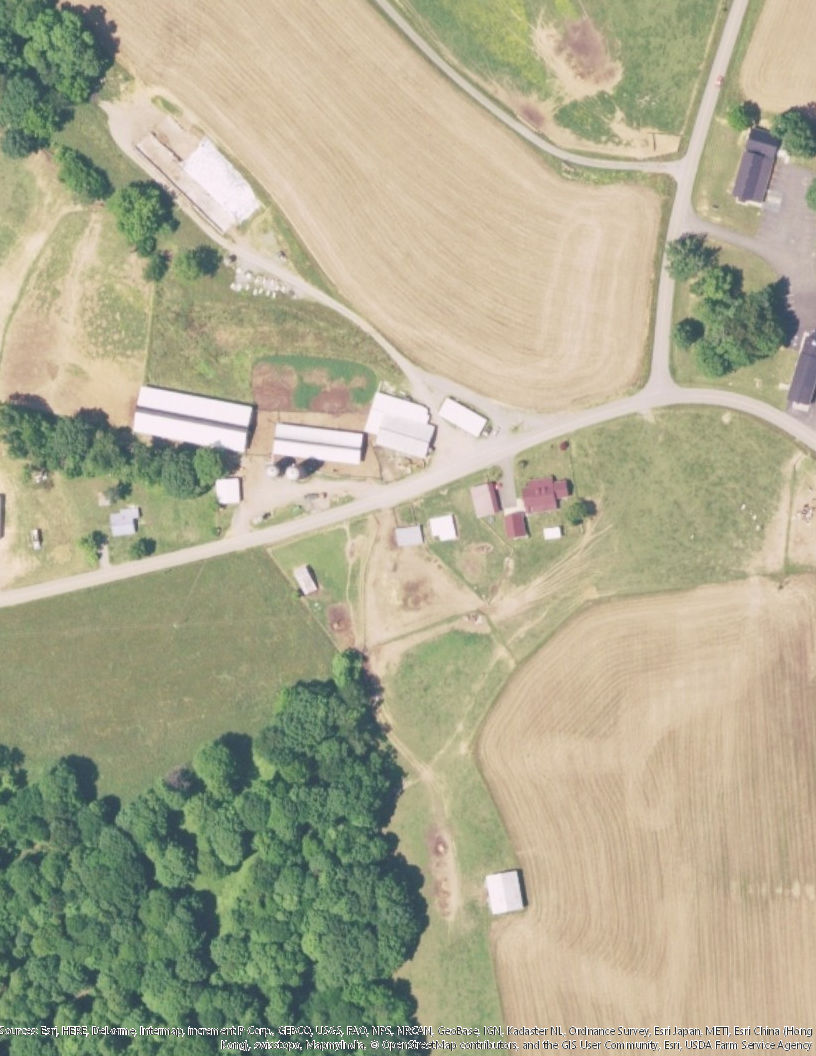cafo: (129, 383, 262, 455), (362, 385, 442, 459), (267, 420, 373, 463), (438, 398, 489, 439)
